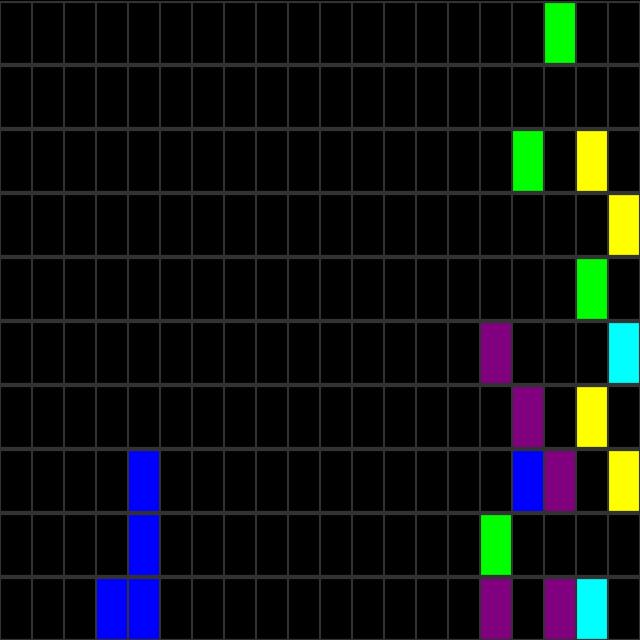Tetrimino_S: (95, 446, 159, 640)
